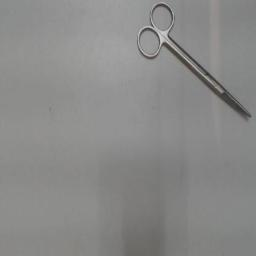Curved Mayo Scissors: (132, 0, 254, 124)
